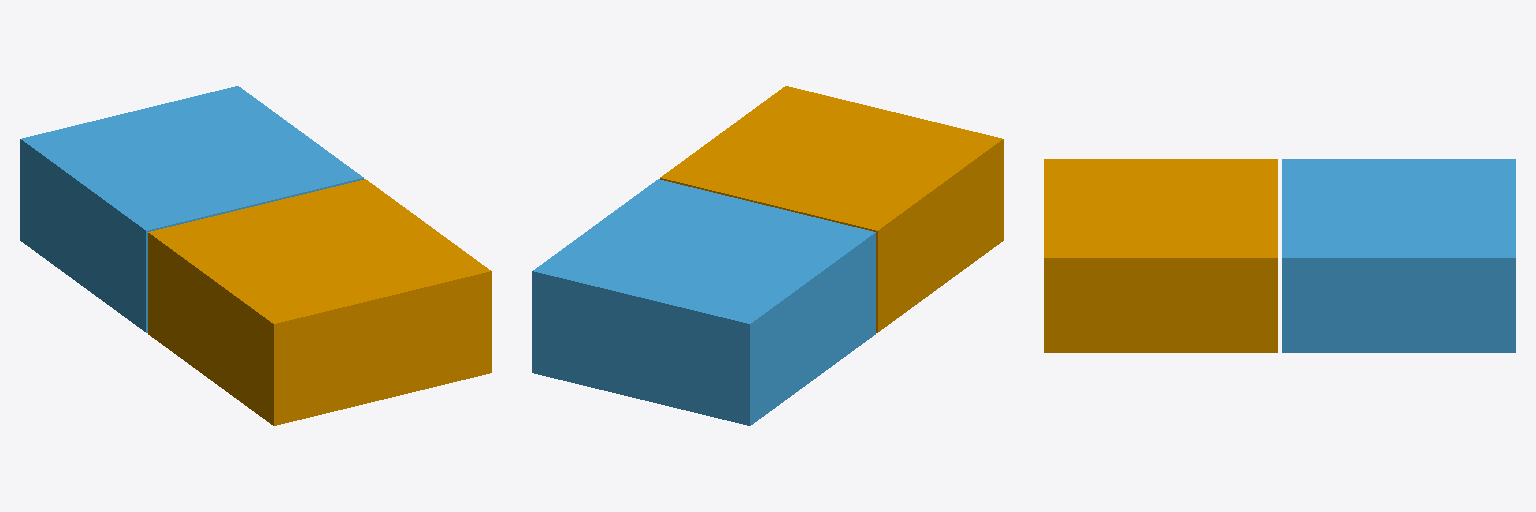
The robot description file, URDF, robot "test":
<?xml version='1.0' encoding='UTF-8'?>
<robot name="test">
  <link name="base_link">
    <inertial>
      <origin xyz="0.0 0.0 0.0" rpy="0.0 -0.0 0.0"/>
      <mass value="1.0"/>
      <inertia ixx="1.0" ixy="0.0" ixz="0.0" iyy="1.0" iyz="0.0" izz="1.0"/>
    </inertial>
    <visual>
      <geometry>
        <box size="0.67 0.67 0.3 "/>
      </geometry>
      <origin xyz="0.0 0.0 0.0" rpy="0.0 -0.0 0.0"/>
    </visual>
    <collision>
      <geometry>
        <box size="0.67 0.67 0.3 "/>
      </geometry>
      <origin xyz="0.0 0.0 0.0" rpy="0.0 0.0 0.0"/>
    </collision>
  </link>
  <link name="test">
    <inertial>
      <origin xyz="0.0 0.34 0.0" rpy="0.0 0.0 0.0"/>
      <mass value="1.0"/>
      <inertia ixx="0.0" ixy="0.0" ixz="0.0" iyy="0.0" iyz="0.0" izz="0.0"/>
    </inertial>
    <visual>
      <geometry>
        <box size="0.67 0.67 0.3 "/>
      </geometry>
      <origin xyz="0.0 0.34 0.0" rpy="0.0 0.0 0.0"/>
    </visual>
    <collision>
      <geometry>
        <box size="0.67 0.67 0.3 "/>
      </geometry>
      <origin xyz="0.0 0.34 0.0" rpy="0.0 0.0 0.0"/>
    </collision>
  </link>
  <joint name="name" type="revolute">
    <limit effort="1.0" velocity="1.0" lower="-1.0" upper="1.0"/>
    <parent link="base_link"/>
    <child link="test"/>
    <axis xyz="1. 0. 0."/>
    <origin xyz="0.0 0.34 0.0" rpy="0.0 0.0 0.0"/>
  </joint>
</robot>

--- What the picture shows (computed from the rendered views, not written in the file) ---
Views: 3 orthographic renders of the robot side by side, from view 1: azimuth 30°, elevation 25°; view 2: azimuth 150°, elevation 25°; view 3: azimuth 270°, elevation 25°.
Robot: test — 2 links, 1 joints (1 revolute); root link base_link; default pose: all joints at 0.
Visible links, largest first — view 1: base_link, test; view 2: test, base_link; view 3: base_link, test.
Boxes of the visible links, bbox=[...] form: base_link: bbox=[148, 179, 491, 425]; test: bbox=[20, 86, 363, 332]; test: bbox=[532, 179, 875, 425]; base_link: bbox=[660, 86, 1003, 332]; base_link: bbox=[1044, 159, 1277, 352]; test: bbox=[1282, 159, 1515, 352].
Bounding box of the posed robot: 0.67 × 1.35 × 0.3 m (x, y, z).
Geometry: primitives only (box / cylinder / sphere), no mesh files.